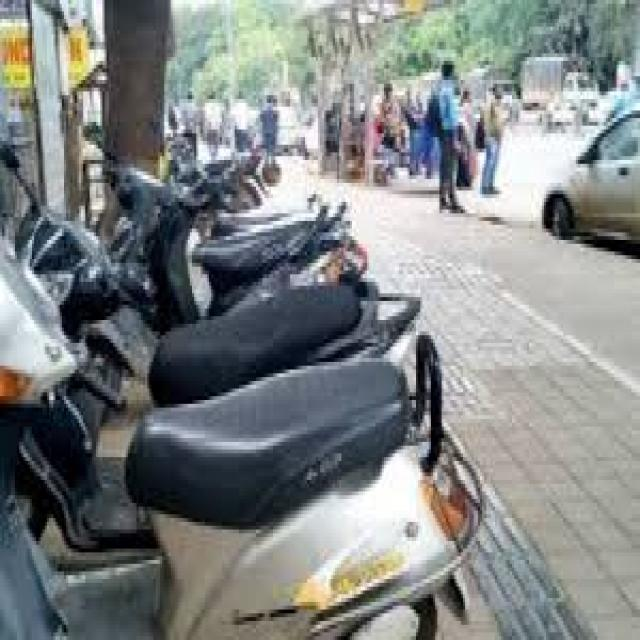No Parking: (26, 55, 436, 640)
